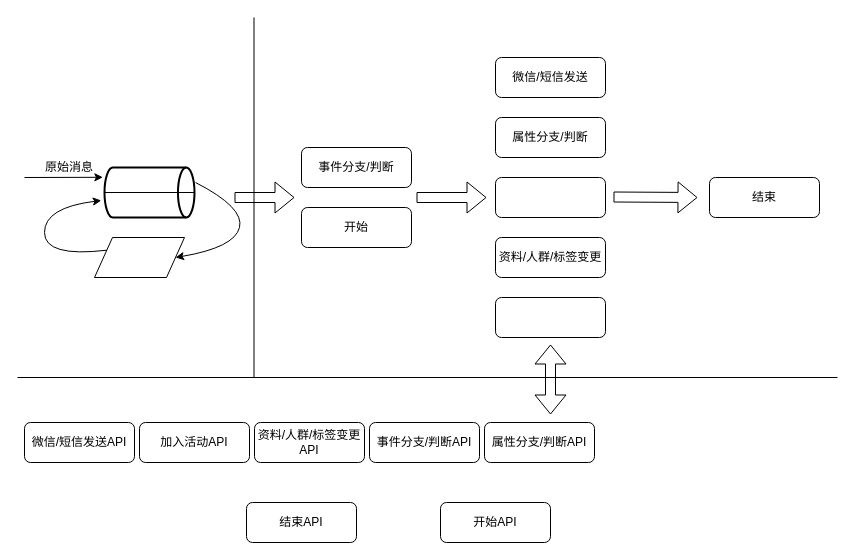
Image size: 856x560. Some labels were removed from this diagram. Each missing label, with the centre of its shape:
加入活动: (550,317)
消息标准化: (139,257)
等待: (550,197)
